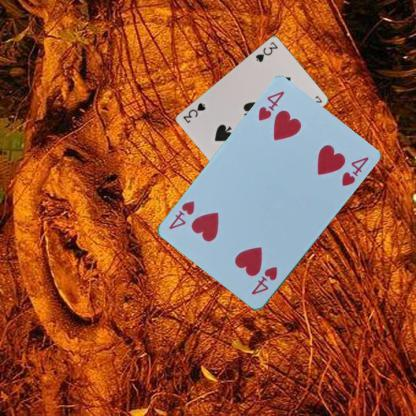3s: (253, 39, 279, 63)
4h: (255, 88, 286, 122), (249, 264, 279, 298)
